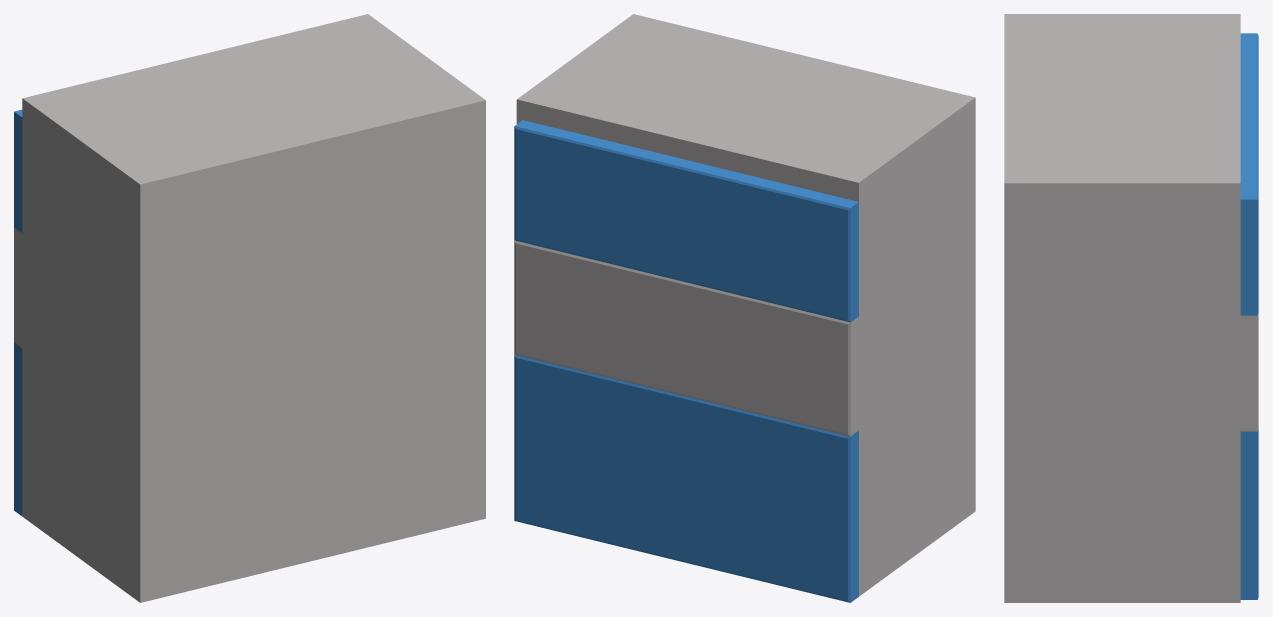
Rendered from LabCabinet3.fbx.
3 views of the same model, side by side, from view 1: azimuth 30°, elevation 25°; view 2: azimuth 150°, elevation 25°; view 3: azimuth 270°, elevation 25° (orthographic).
Parts seen in each view (by area): view 1: LabCabinet3; view 2: LabCabinet3; view 3: LabCabinet3.
Boxes of the visible parts, <box> form: LabCabinet3: <box>14,14,485,602</box>; LabCabinet3: <box>514,14,975,602</box>; LabCabinet3: <box>1004,14,1258,602</box>.
Size of the model in its own units: 61.56 by 71.2 by 39.13.
